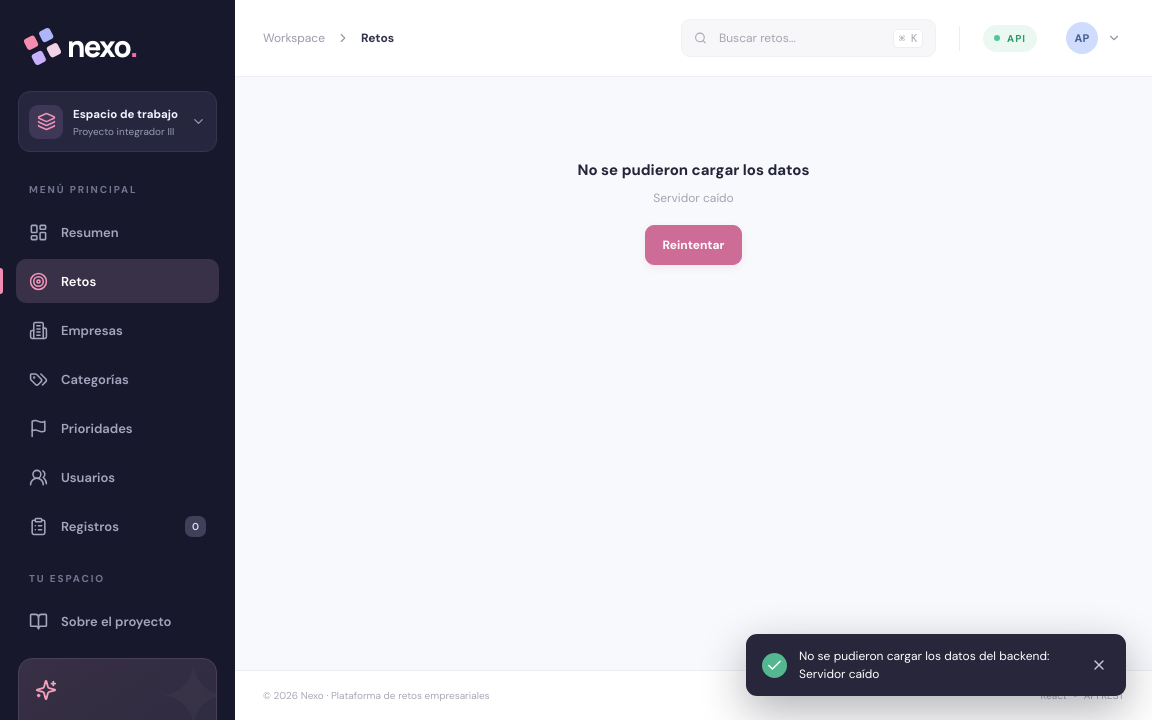
Test: PlatformApp · autenticación › permite reintentar si los datos no cargan
This screenshot has width=1152, height=720.
Expected: the text "Servidor caído" is shown, [653,190,734,206]
Click the button "Reintentar" at (693, 245), box [644,225,742,265]
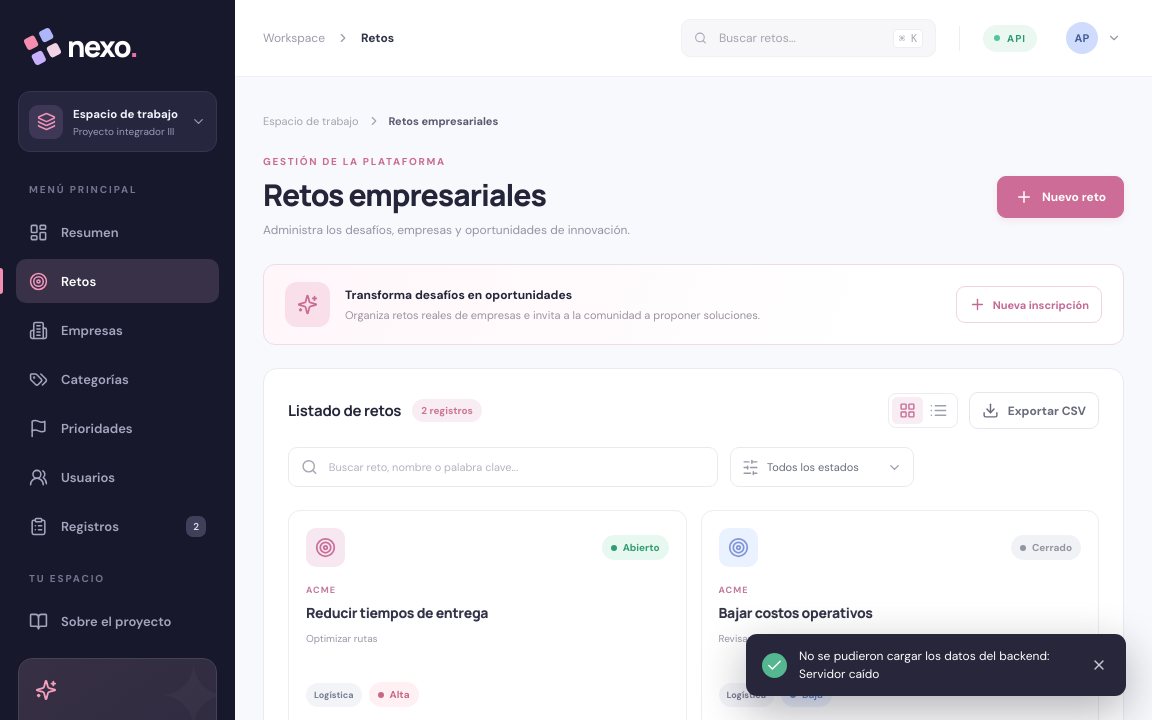
Expected: the heading "Retos empresariales" is shown, [263,174,546,215]
